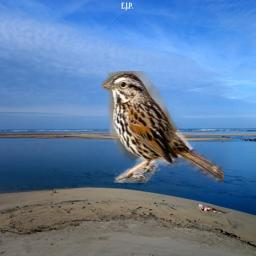Sparrow: (102, 71, 224, 183)
